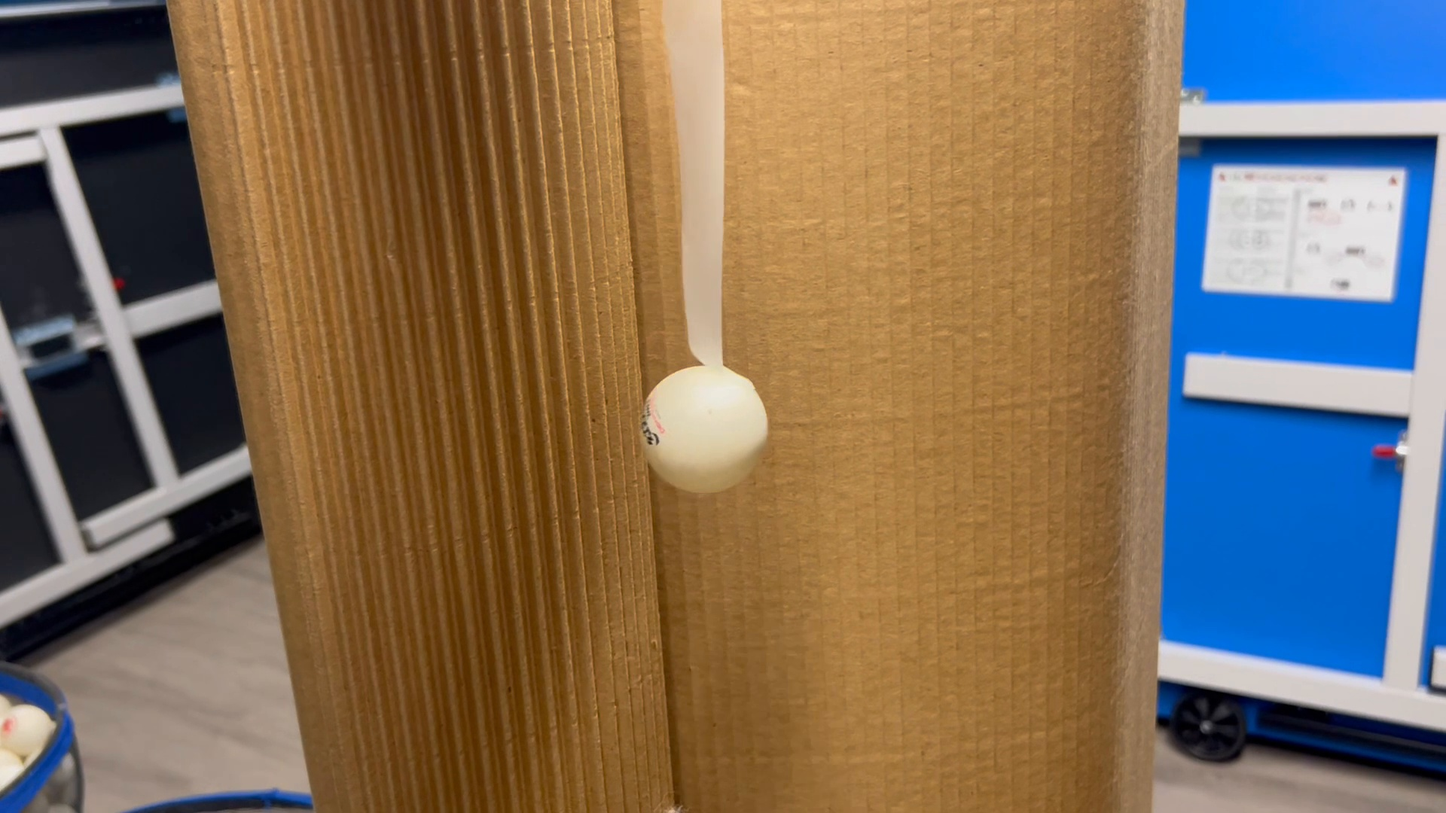Ball: (615, 356, 777, 500)
